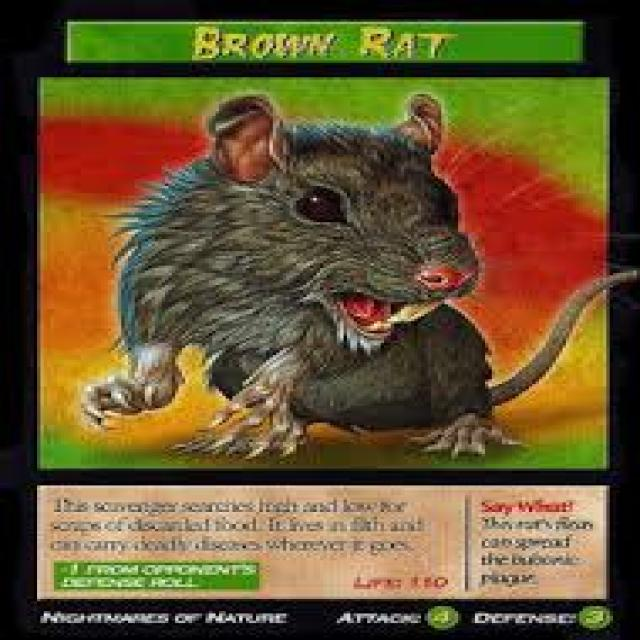rat: (78, 90, 613, 462)
